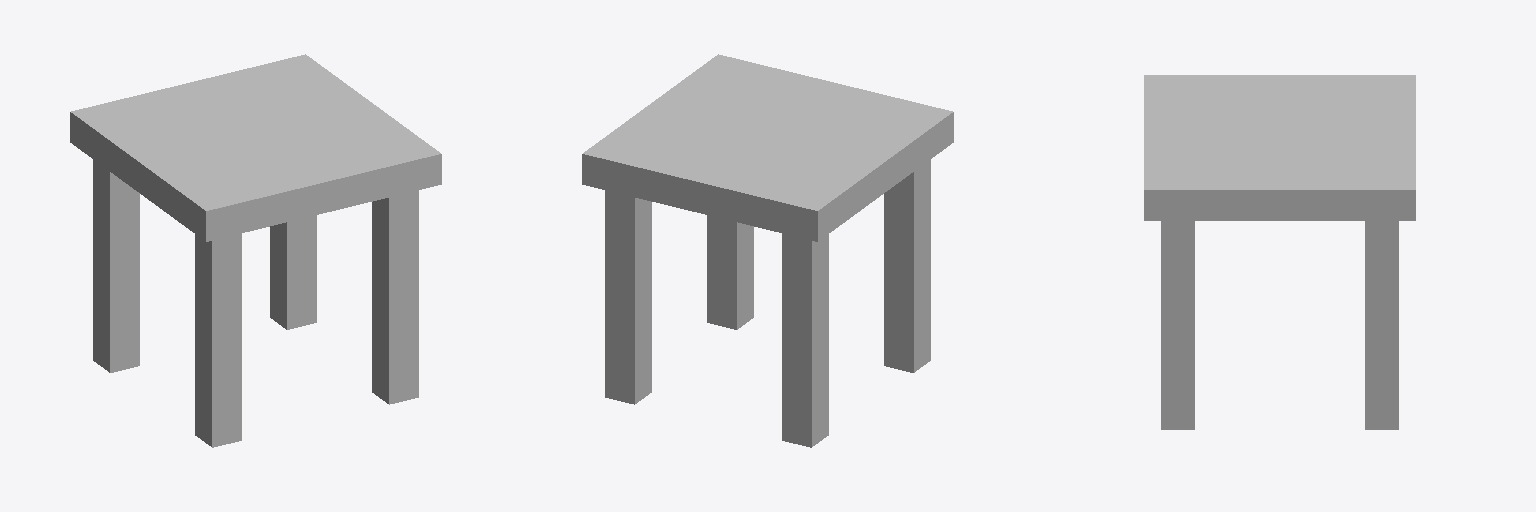
Rendered from Hall small table.obj.
The picture shows the model from 3 angles: view 1: azimuth 30°, elevation 25°; view 2: azimuth 150°, elevation 25°; view 3: azimuth 270°, elevation 25°; orthographic projection.
Visible parts, largest first — view 1: object 1; view 2: object 1; view 3: object 1.
Boxes of the visible parts, box(x1,y1,x2,y2) form: object 1: box(70, 54, 441, 447); object 1: box(582, 54, 953, 447); object 1: box(1144, 75, 1415, 429).
Bounding box in the file's own units: 1.6 × 1.6 × 1.6.